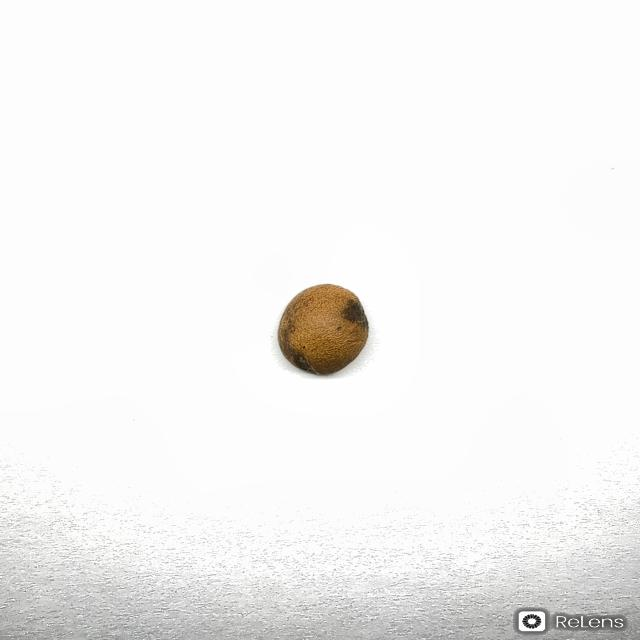Scorched: (275, 282, 371, 376)
